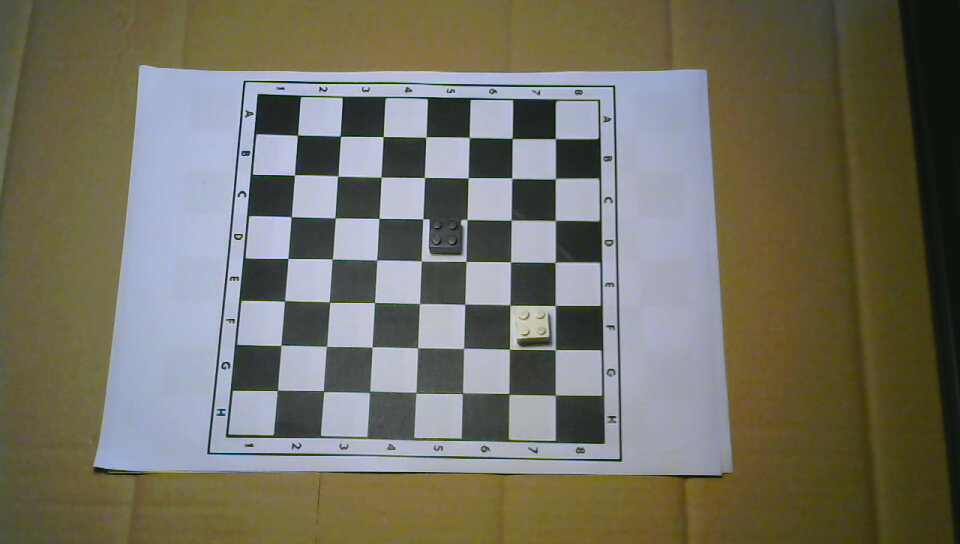bp: (428, 216, 463, 256)
wp: (513, 307, 552, 347)
